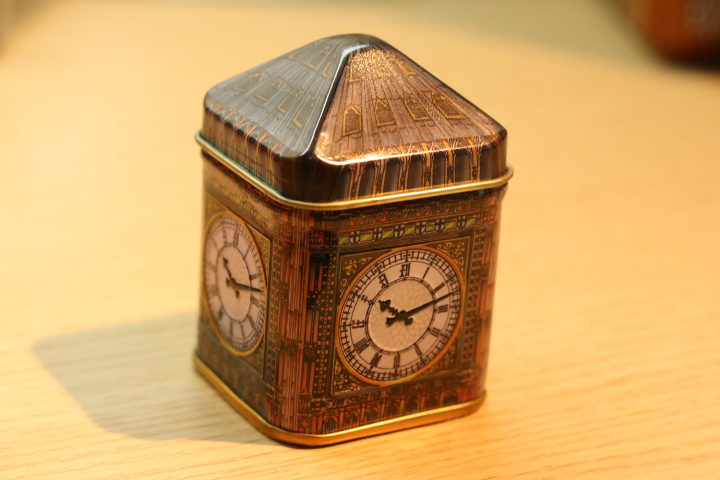Big Ben: (178, 28, 527, 458)
